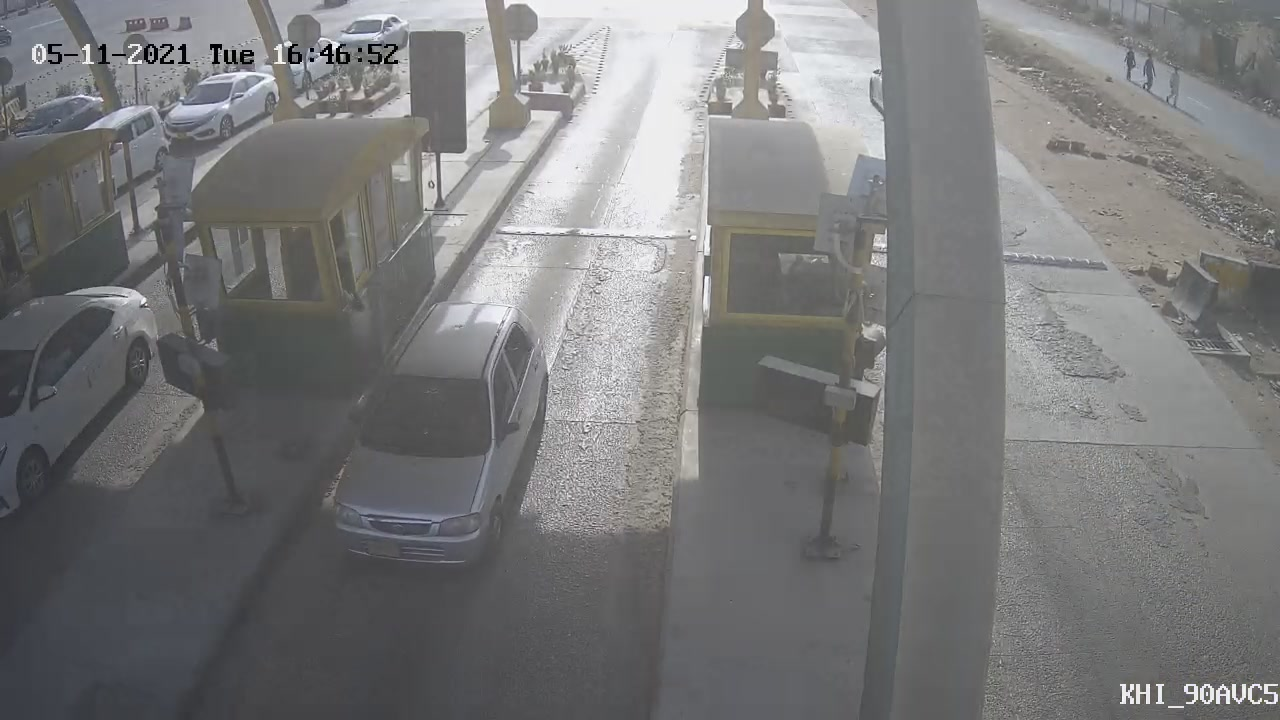F1: (299, 281, 563, 586)
